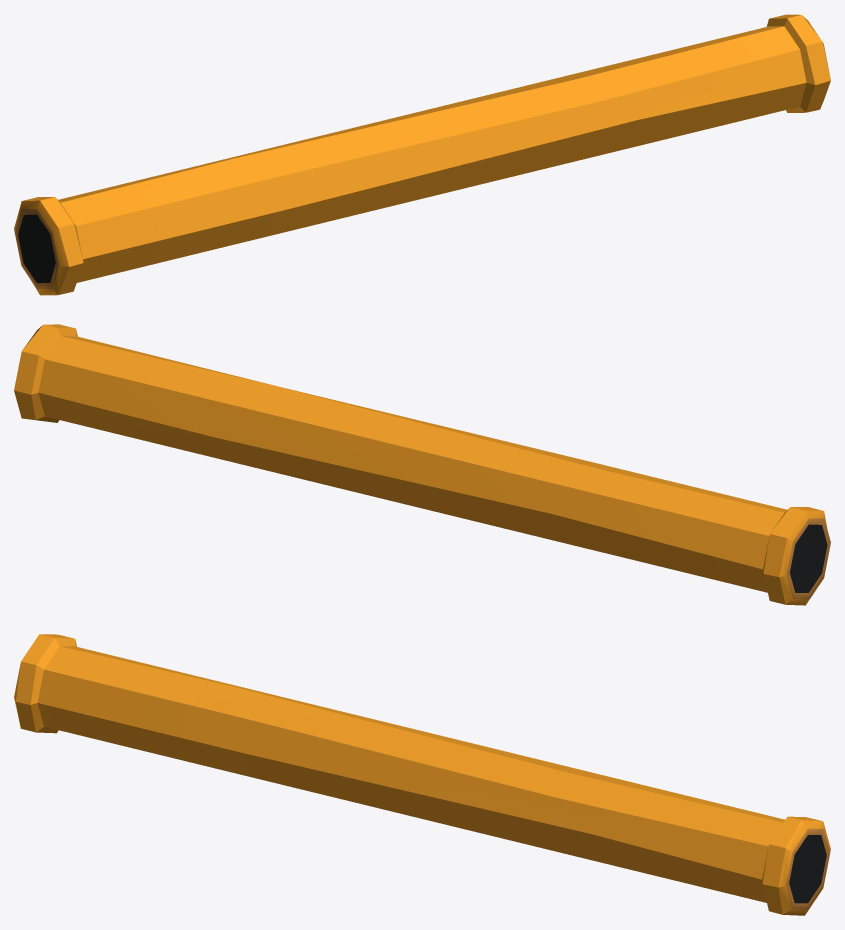
File: SM_Prop_Pipe_04.fbx
3 renders of one model, top to bottom at view 1: azimuth 30°, elevation 25°; view 2: azimuth 150°, elevation 25°; view 3: azimuth 330°, elevation 25°, orthographic.
Parts seen in each view (by area): view 1: SM_Prop_Pipe_04; view 2: SM_Prop_Pipe_04; view 3: SM_Prop_Pipe_04.
Boxes of the visible parts, x1=… form: SM_Prop_Pipe_04: x1=14, y1=14, x2=830, y2=295; SM_Prop_Pipe_04: x1=14, y1=324, x2=830, y2=605; SM_Prop_Pipe_04: x1=14, y1=634, x2=830, y2=915.
Size of the model in its own units: 1000 by 118 by 118.
